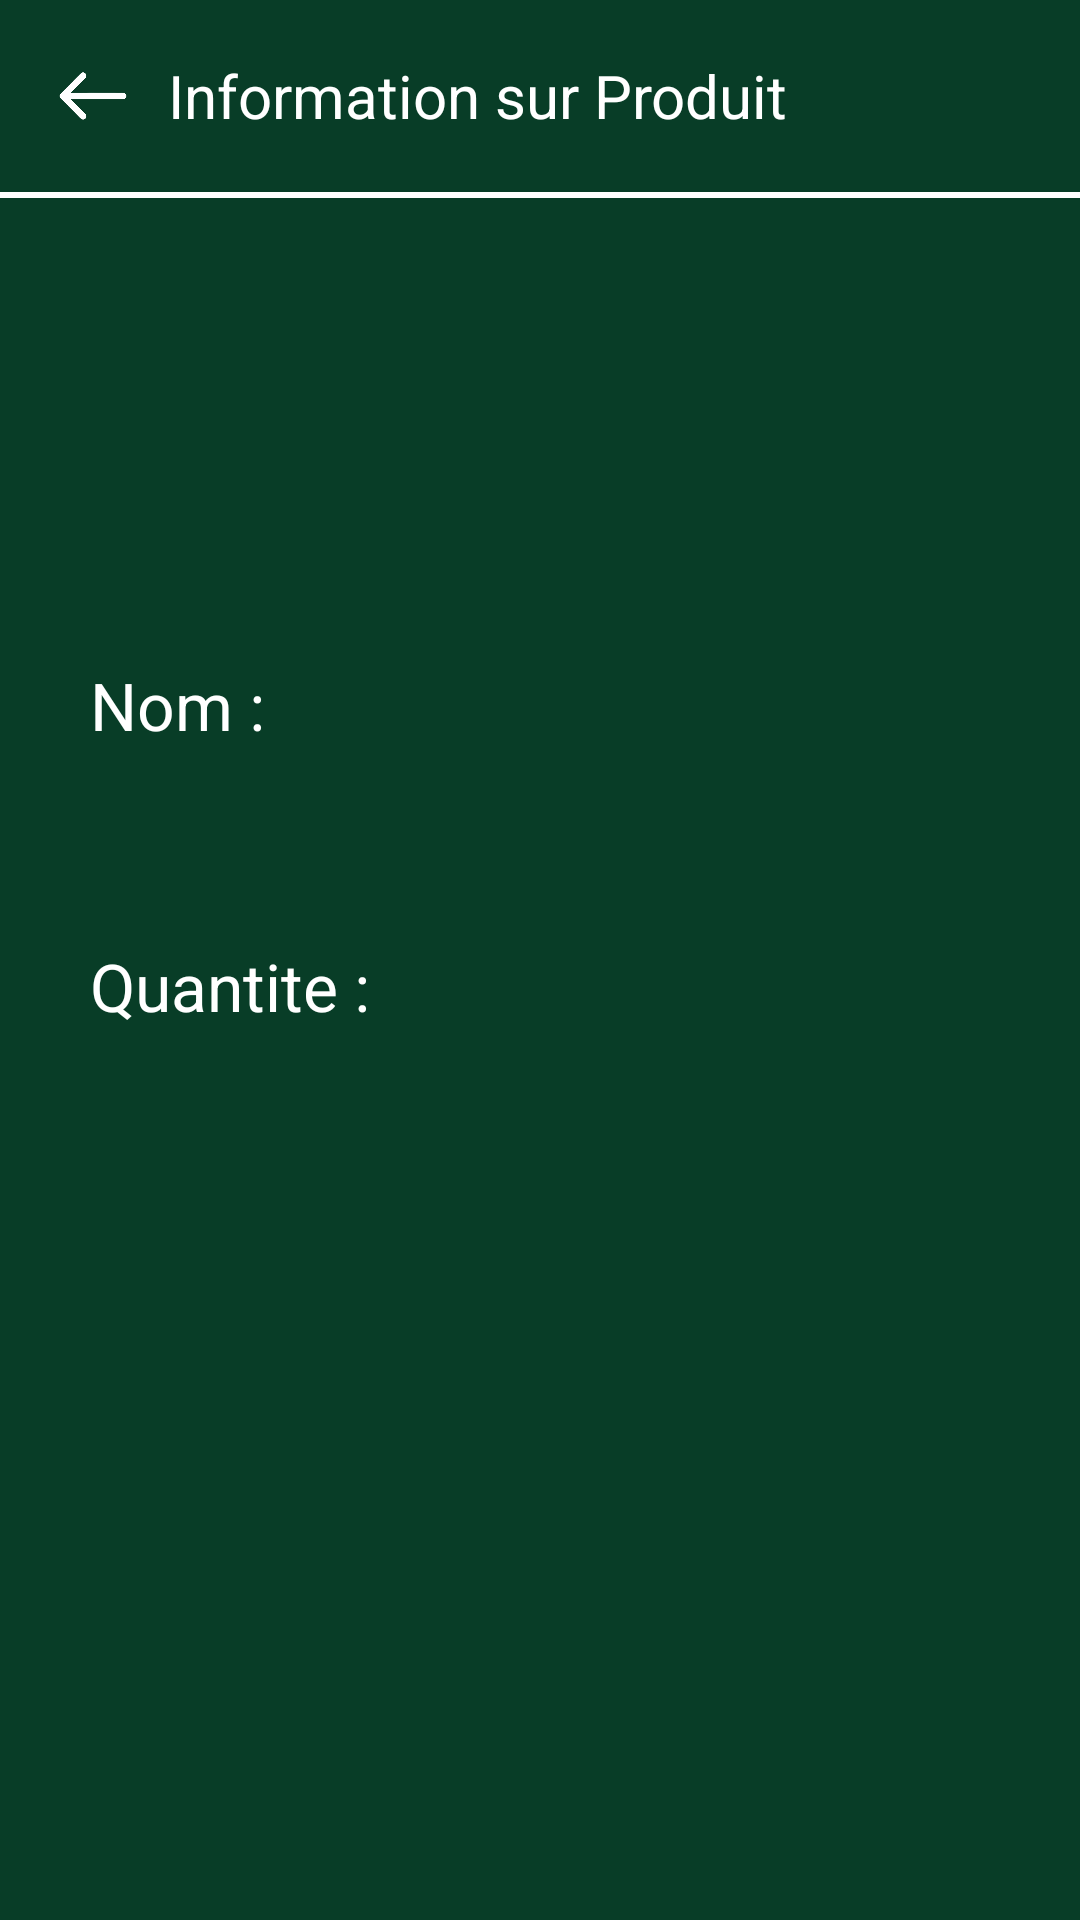

Icon bounding boxes for this 1080px x 1920px phone screenshot, format bbox(x1, y1, x2, y2):
fleche: bbox(59, 72, 127, 120)
